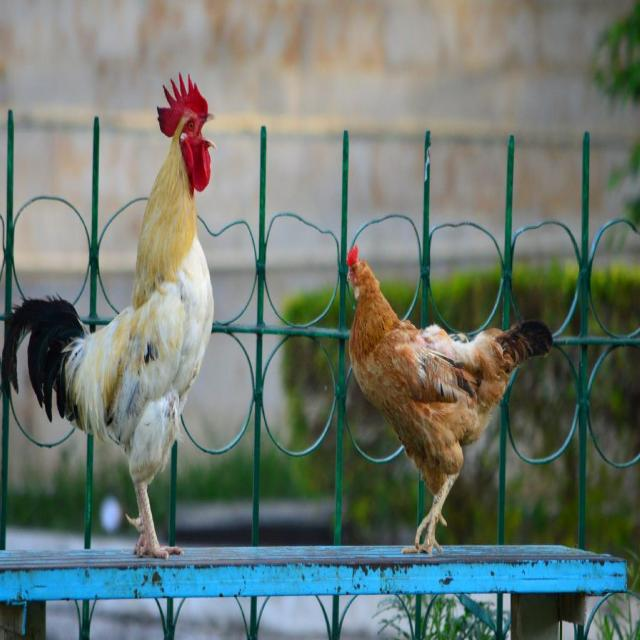Chicken: (0, 69, 222, 565), (346, 245, 554, 555)
